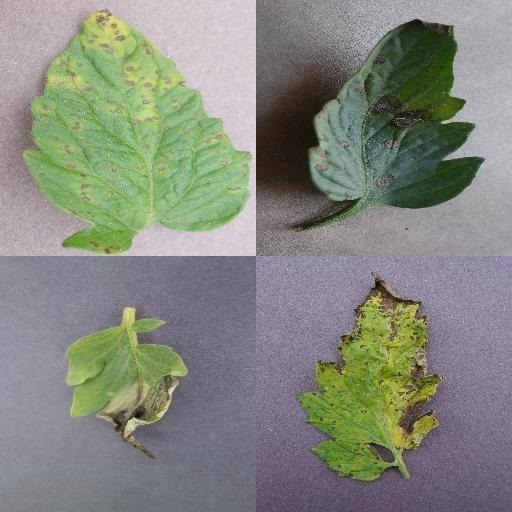Early Blight: (309, 19, 486, 211)
Late Blight: (63, 311, 189, 465)
Septoria: (24, 10, 253, 256), (298, 271, 441, 481)
